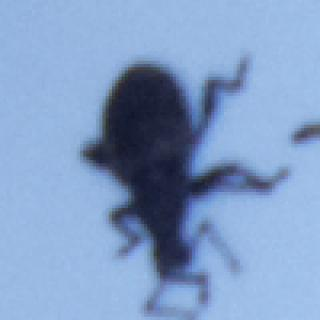bvw: (80, 54, 289, 320)
